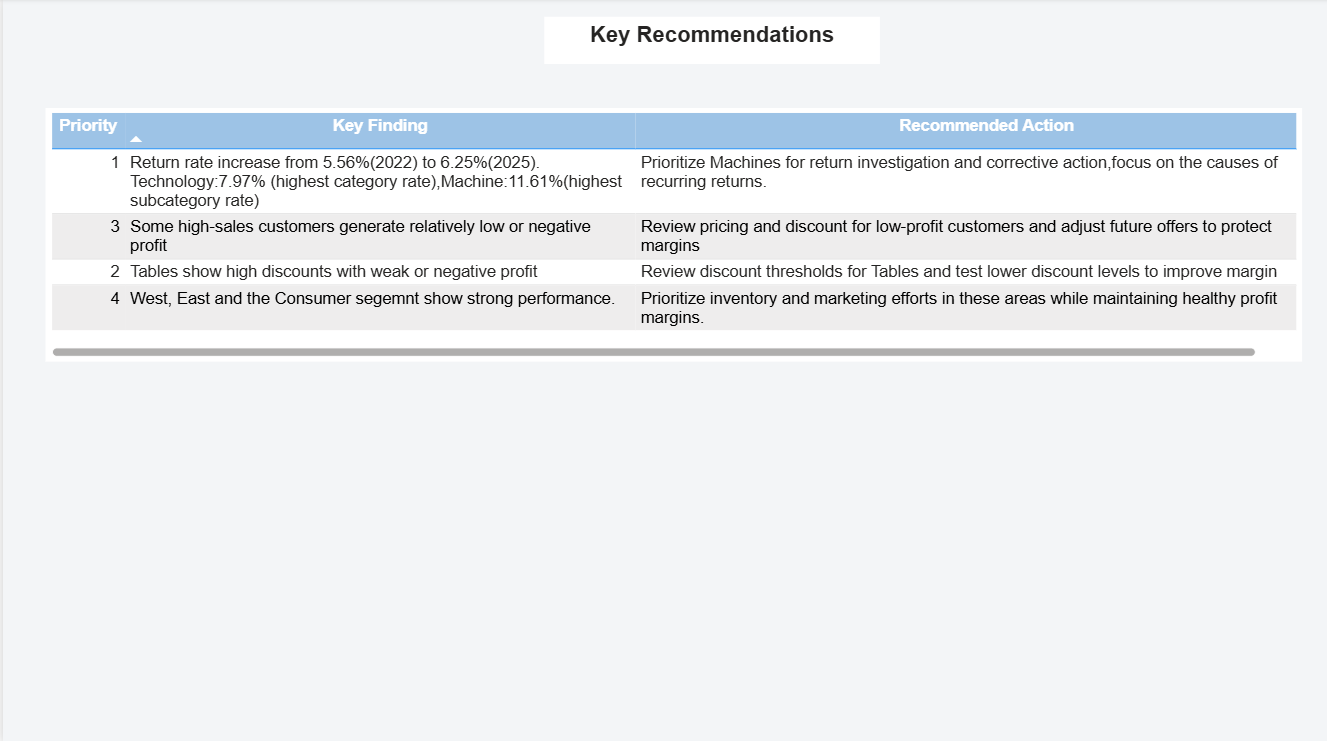

The dashboard page shown, as its layout file describes it:
{"tool":"powerbi","page":{"name":"Final Recommendation","canvas":[1280,720],"ordinal":4},"visuals":[{"type":"textbox","box":[522.1,18.3,324.1,45.2],"z":0},{"type":"tableEx","fields":{"Values":["Recommendations.Priority","Recommendations.Key Finding","Recommendations.Recommended Action"]},"box":[41,106.2,1212.5,244.9],"z":1}]}

Visuals, with their boxes in screenshot pixels (x1, y1, x2, y2), scaled from the page's 1280x720 canvas onto the 1327x741 screenshot:
textbox: [541,19,877,65]
tableEx - Recommendations.Priority x Recommendations.Key Finding: [43,109,1300,361]
